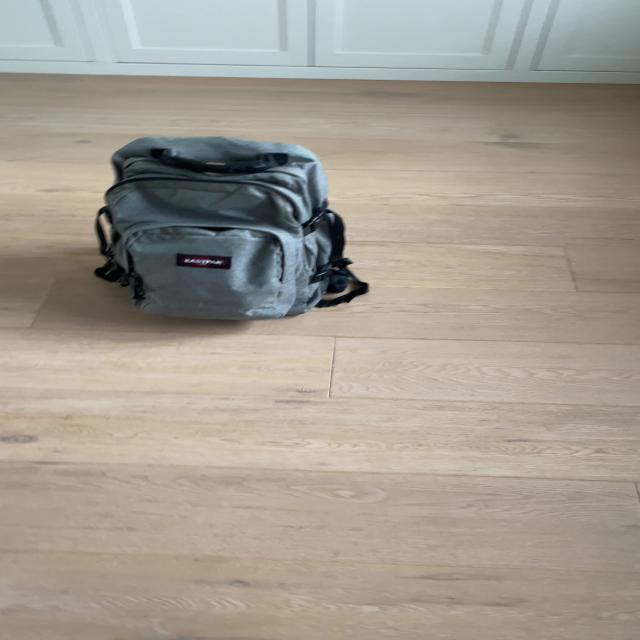backpack: (82, 128, 370, 326)
